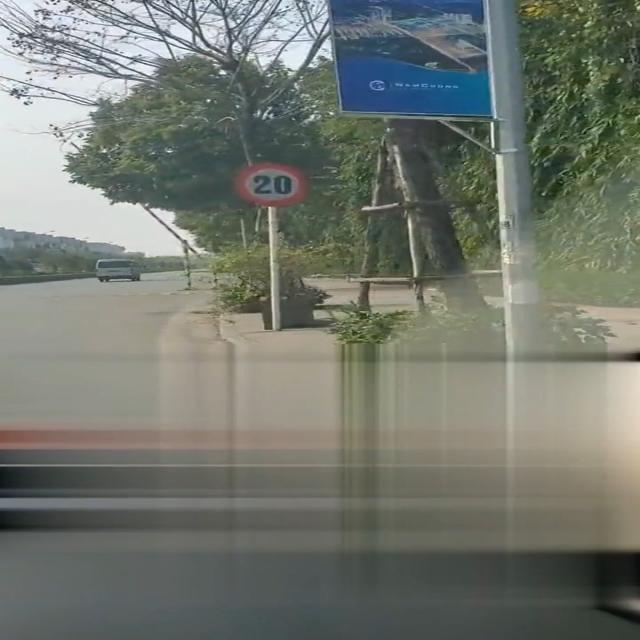127-toc-do-toi-da-20: (231, 162, 309, 206)
